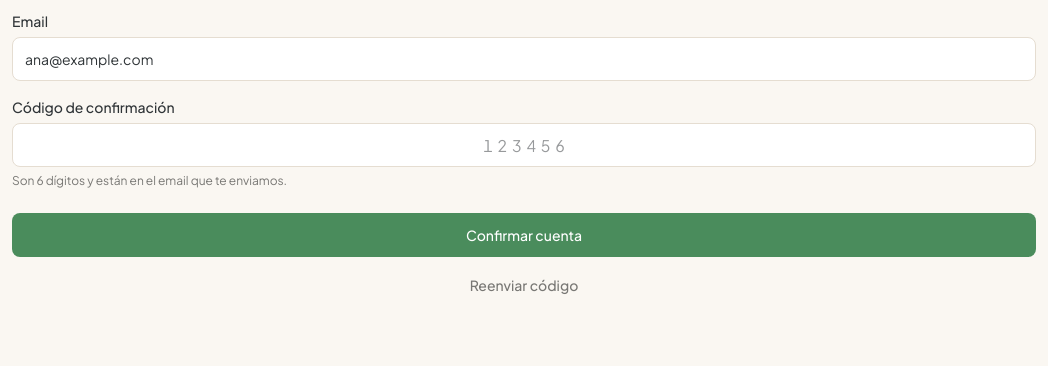
ConfirmRegistrationForm — reenviar código (S5) › surfaces a controlled AuthResult failure without stranding the button
The width and height of the screenshot is (1048, 366).
Click the button "Reenviar código" at (524, 285), box x1=470 y1=275 x2=578 y2=295
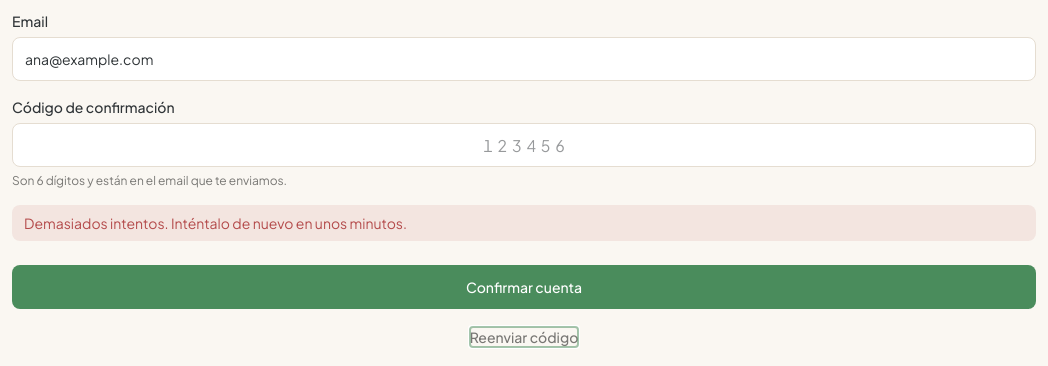
Expected: the button "Reenviar código" is enabled, x1=470 y1=327 x2=578 y2=347
Expected: the message shows "Demasiados intentos", x1=24 y1=214 x2=407 y2=232
